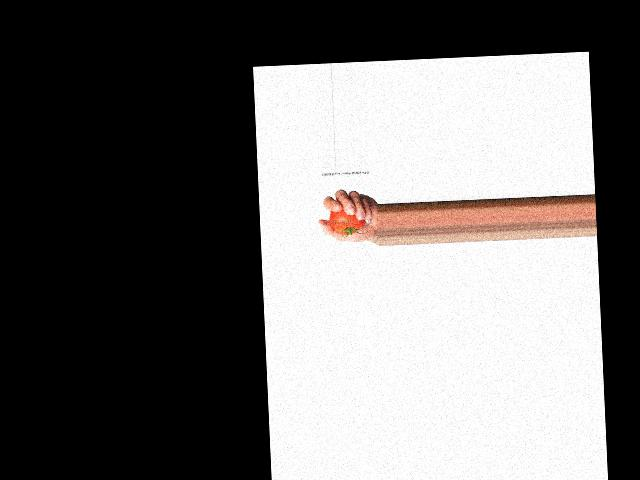tomato: (328, 208, 365, 235)
